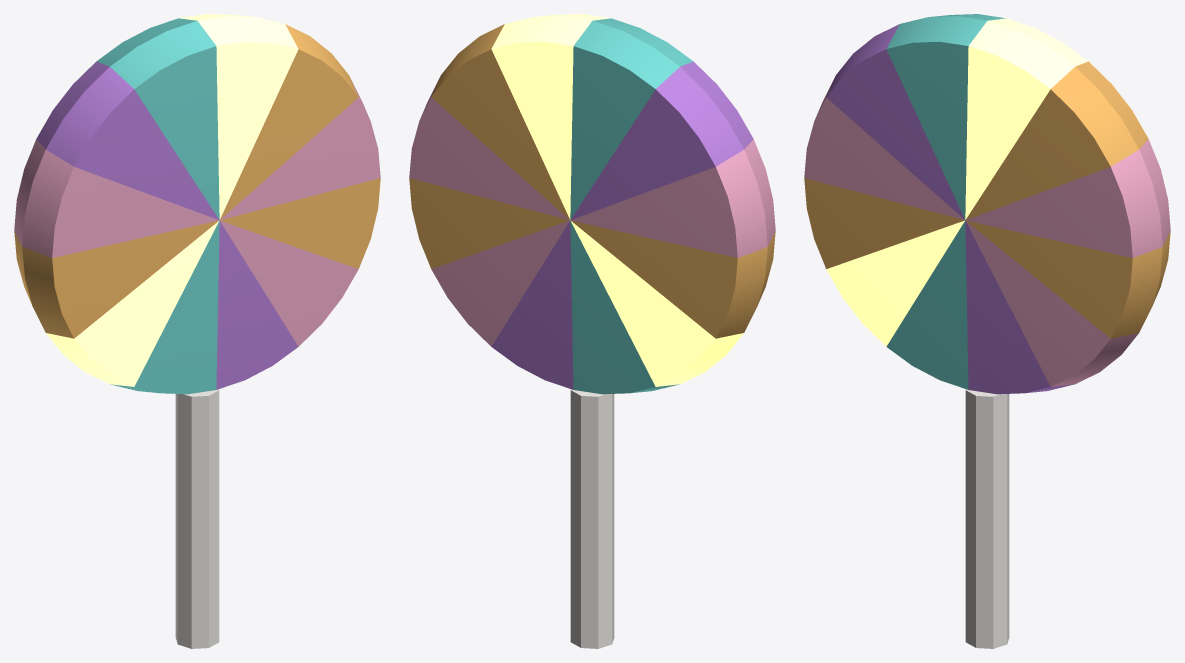
The model's file is Lollipop_Rainbow.fbx.
3 views of the same model, side by side, from view 1: azimuth 30°, elevation 25°; view 2: azimuth 150°, elevation 25°; view 3: azimuth 330°, elevation 25° (orthographic).
Parts seen in each view (by area): view 1: Lollipop_Rainbow; view 2: Lollipop_Rainbow; view 3: Lollipop_Rainbow.
Boxes of the visible parts, left/top/right/bottom form: Lollipop_Rainbow: left=14, top=14, right=380, bottom=648; Lollipop_Rainbow: left=409, top=14, right=775, bottom=648; Lollipop_Rainbow: left=804, top=14, right=1170, bottom=648.
Bounding box in the file's own units: 3.2 × 5.4 × 0.7.
